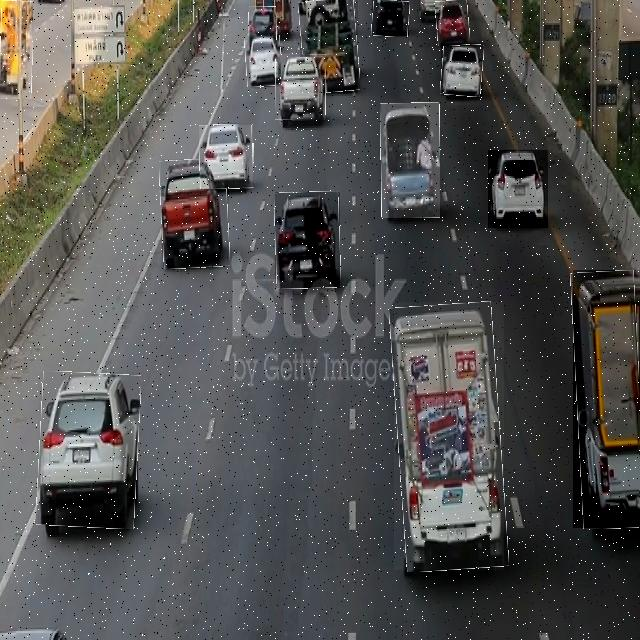Car: (38, 372, 140, 528), (275, 192, 340, 288), (488, 150, 548, 228), (200, 125, 253, 189), (441, 43, 483, 96), (245, 36, 282, 86), (436, 0, 469, 45), (372, 0, 409, 36), (249, 6, 277, 45)
Truck: (394, 302, 504, 570), (573, 270, 640, 528), (161, 159, 229, 269), (381, 103, 440, 218), (300, 0, 358, 93), (276, 54, 326, 120), (0, 0, 32, 99)
